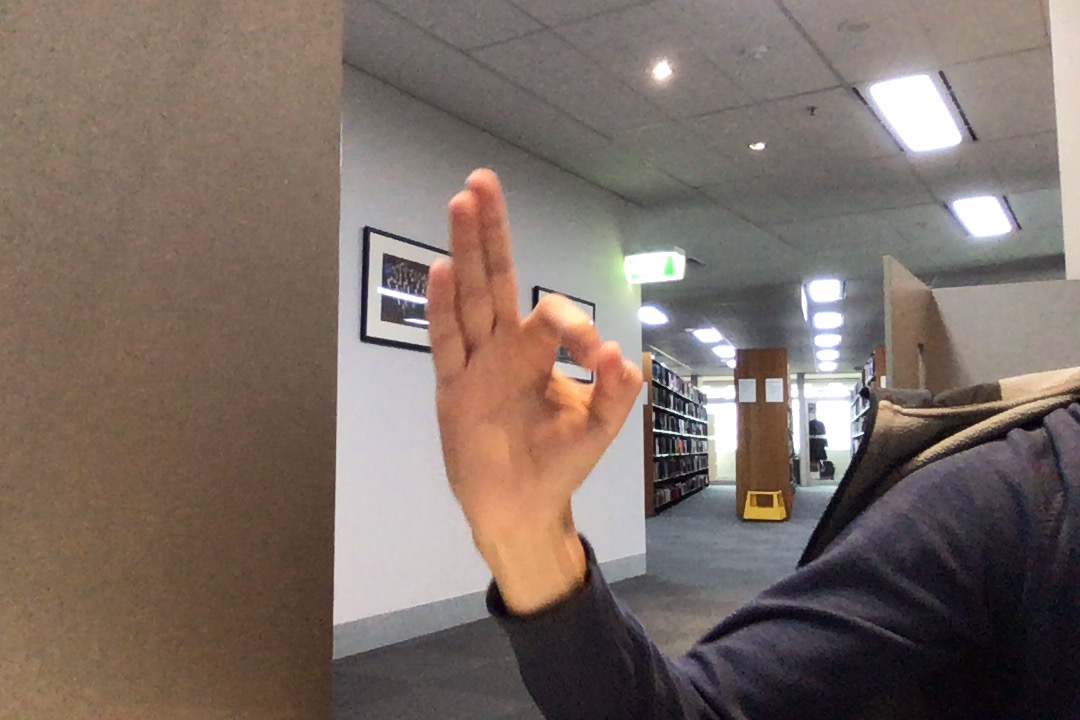oksign: (415, 158, 655, 544)
